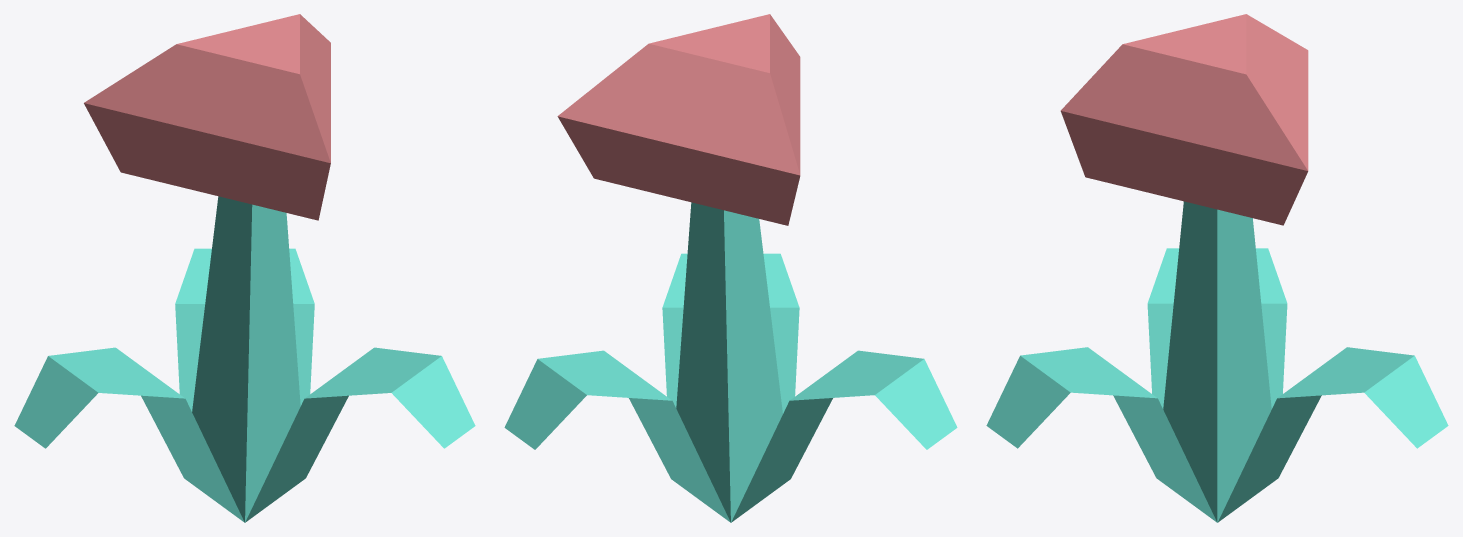
Rendered from flower_redB.glb.
3 renders of one model, left to right at view 1: azimuth 30°, elevation 25°; view 2: azimuth 150°, elevation 25°; view 3: azimuth 270°, elevation 25°, orthographic.
Parts seen in each view (by area): view 1: flower_redB; view 2: flower_redB; view 3: flower_redB.
Part boxes in pixels (<box>): flower_redB: <box>14,14,475,522</box>; flower_redB: <box>504,14,957,522</box>; flower_redB: <box>986,14,1448,522</box>.
Bounding box in the file's own units: 0.2073 × 0.2585 × 0.2392.
